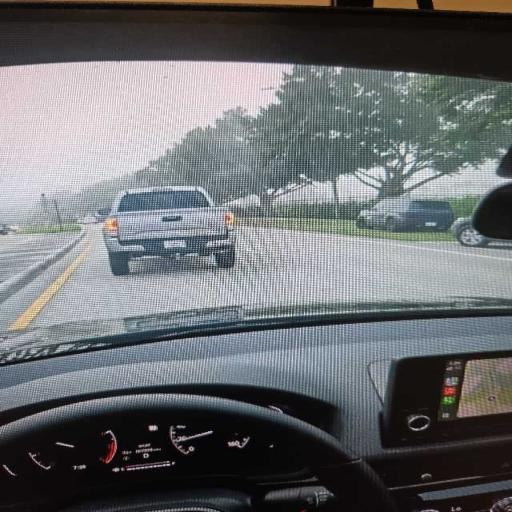car: (0, 2, 511, 511), (356, 197, 454, 231), (451, 218, 491, 247), (80, 215, 97, 224), (0, 223, 12, 235)
lane: (32, 228, 511, 325), (0, 233, 76, 282)
truck: (103, 187, 235, 275)
